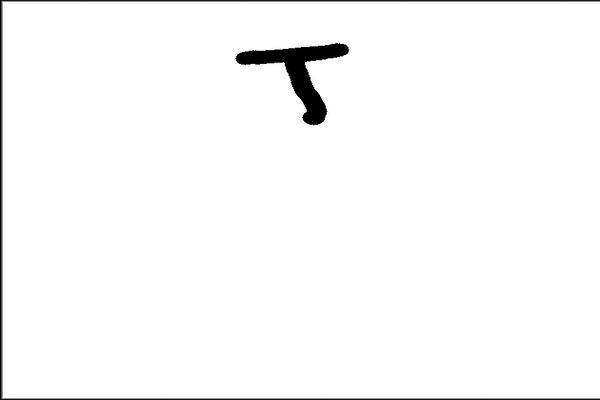T: (231, 43, 359, 124)
